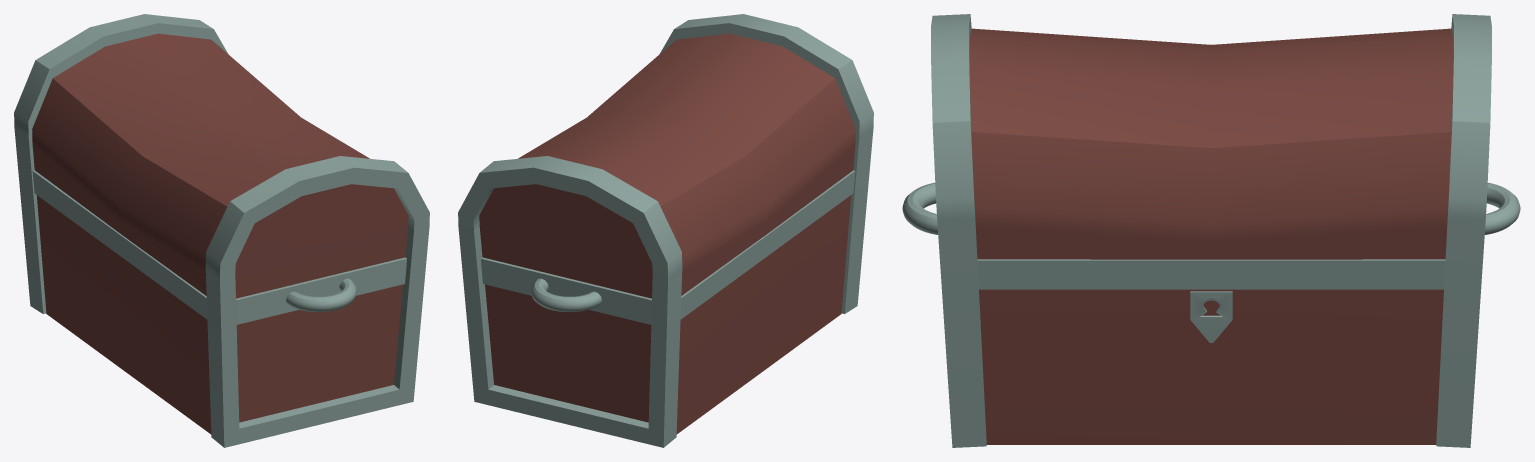
File: Chest.fbx
3 views of the same model, side by side, from view 1: azimuth 30°, elevation 25°; view 2: azimuth 150°, elevation 25°; view 3: azimuth 270°, elevation 25° (orthographic). The views are drawn at different scales.
Visible parts, largest first — view 1: Cube.004; view 2: Cube.004; view 3: Cube.004.
Part boxes in pixels (<box>): Cube.004: <box>14,14,429,447</box>; Cube.004: <box>458,14,873,447</box>; Cube.004: <box>902,14,1520,447</box>.
Size of the model in its own units: 205 by 241 by 392.
